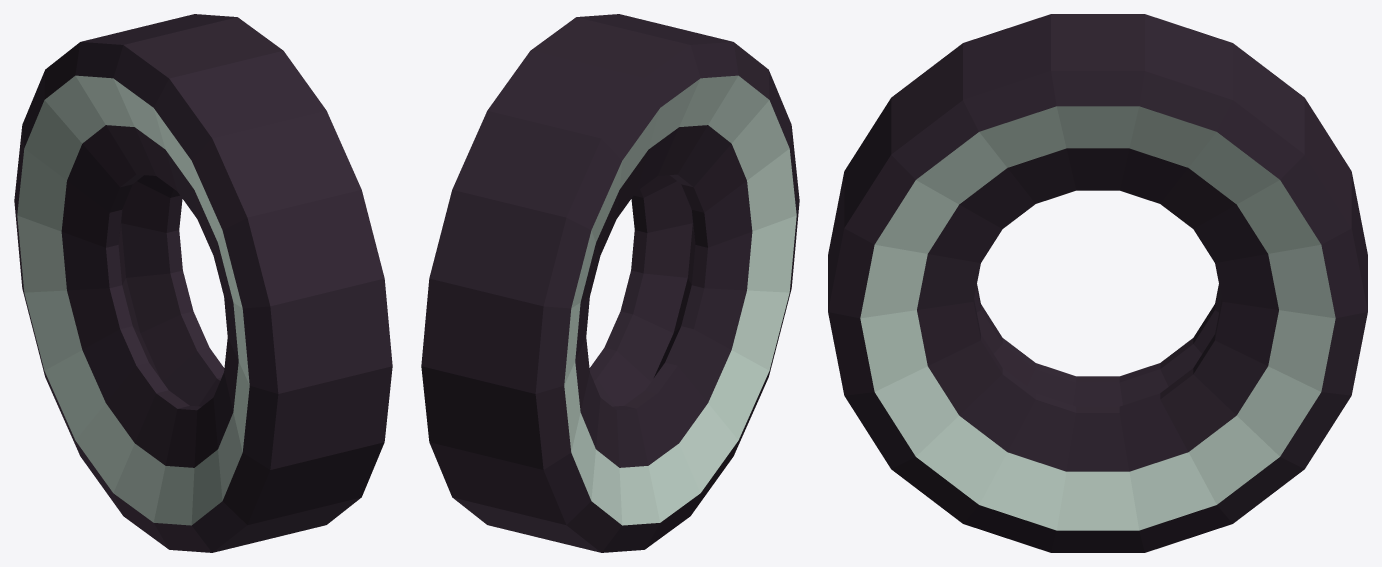
The model's file is Tire.fbx.
3 views of the same model, side by side, from view 1: azimuth 30°, elevation 25°; view 2: azimuth 150°, elevation 25°; view 3: azimuth 270°, elevation 25° (orthographic). The views are drawn at different scales.
Parts seen in each view (by area): view 1: Cylinder; view 2: Cylinder; view 3: Cylinder.
Part boxes in pixels (x1,y1,x2,y2): Cylinder: [14, 14, 392, 552]; Cylinder: [421, 14, 799, 552]; Cylinder: [828, 14, 1367, 552].
Size of the model in its own units: 61.21 by 197 by 200.
